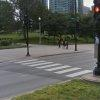Crosswalk: (16, 49, 86, 88)
